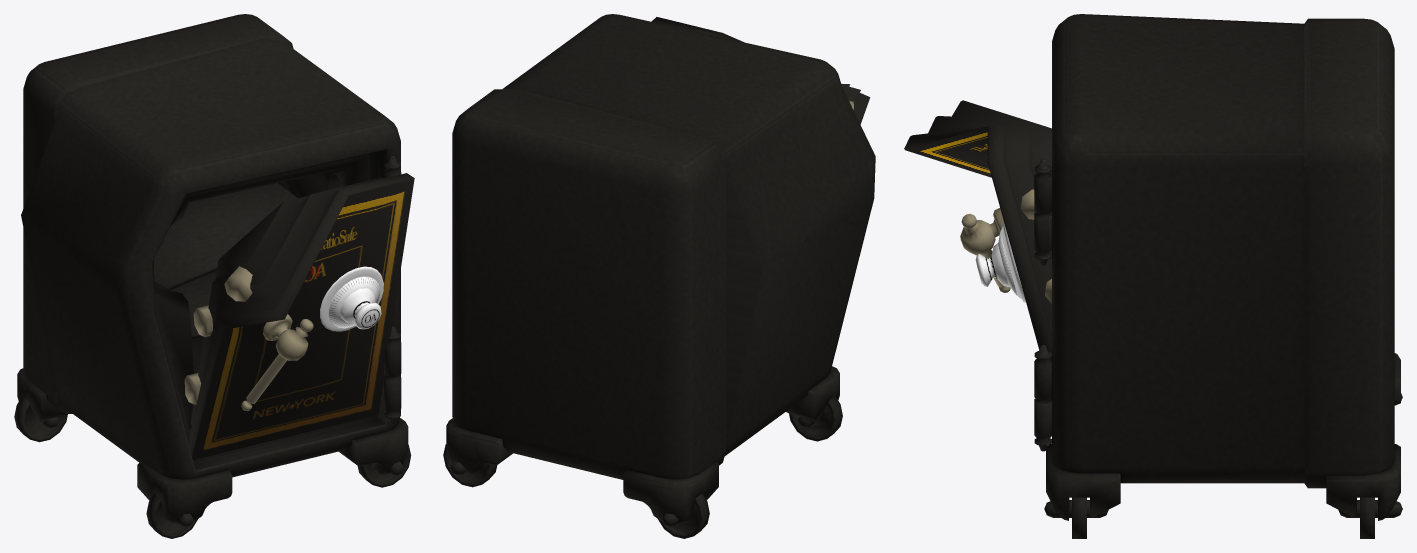
File: VintageSafe1_Broken_FBX.fbx
3 renders of one model, left to right at view 1: azimuth 30°, elevation 25°; view 2: azimuth 150°, elevation 25°; view 3: azimuth 270°, elevation 25°, orthographic. The views are drawn at different scales.
Parts seen in each view (by area): view 1: Box, Door, knob, Handle, Cylinders; view 2: Box, Door; view 3: Box, Door, knob, Handle.
Part boxes in pixels (x1=…): Box: x1=14, y1=14, x2=411, y2=538; Door: x1=189, y1=173, x2=414, y2=459; knob: x1=320, y1=266, x2=383, y2=331; Handle: x1=241, y1=314, x2=313, y2=410; Cylinders: x1=184, y1=266, x2=252, y2=404; Box: x1=443, y1=14, x2=875, y2=538; Door: x1=651, y1=17, x2=870, y2=124; Box: x1=1034, y1=14, x2=1402, y2=538; Door: x1=904, y1=100, x2=1051, y2=359; knob: x1=975, y1=222, x2=1025, y2=302; Handle: x1=960, y1=208, x2=1010, y2=292.
Bounding box in the file's own units: 122 × 150 × 166.
